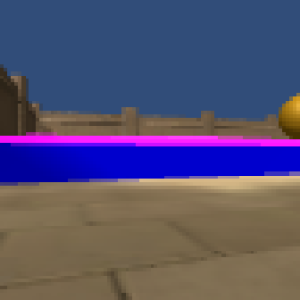goodGoalMulti: (277, 92, 299, 136)
platform: (1, 145, 300, 185)
ramp: (1, 133, 300, 146)
